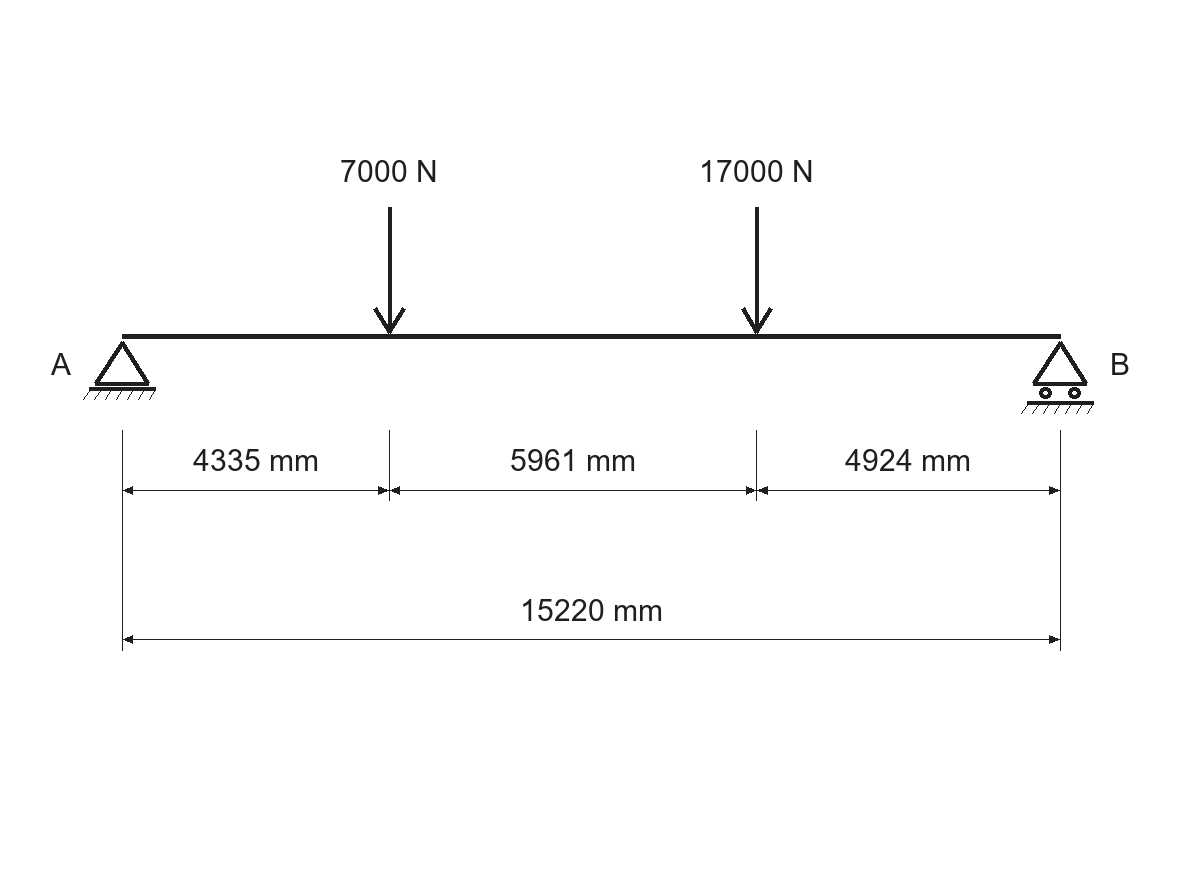pin_support: (83, 341, 156, 400)
point_load: (373, 207, 406, 334), (741, 207, 773, 334)
roller_support: (1021, 341, 1094, 414)
